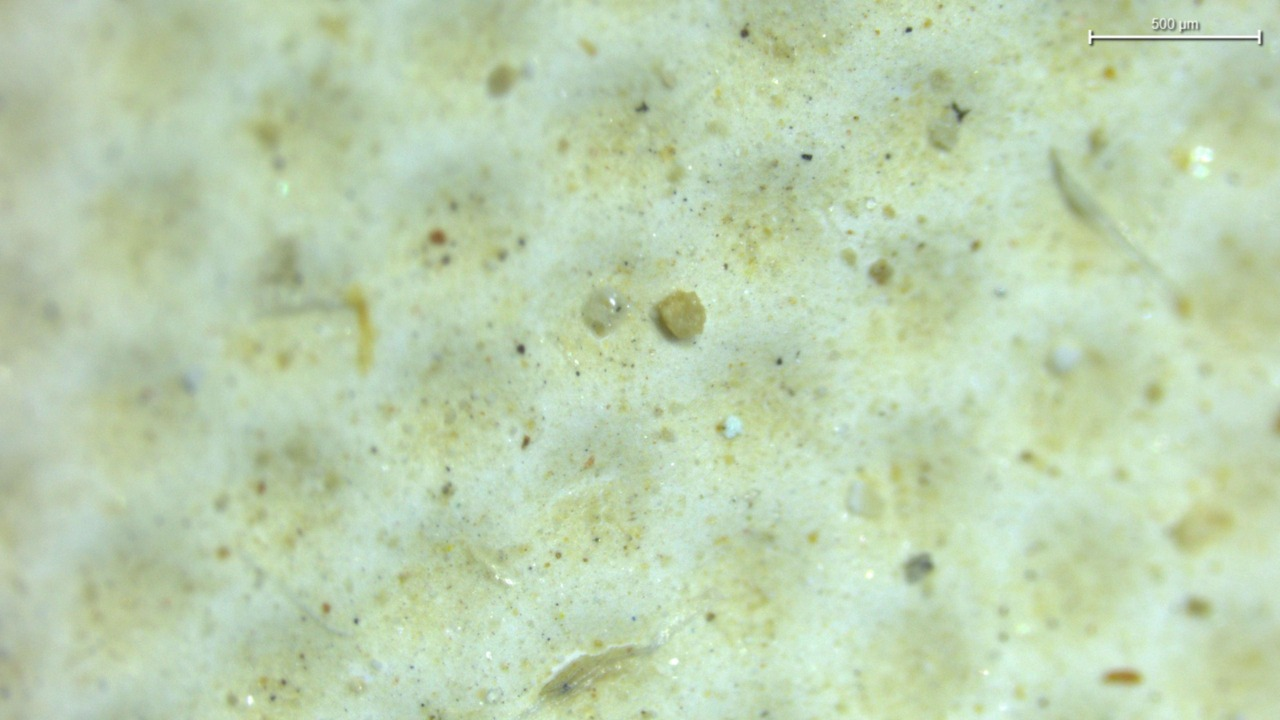microplastic_fragment: (657, 290, 706, 340)
